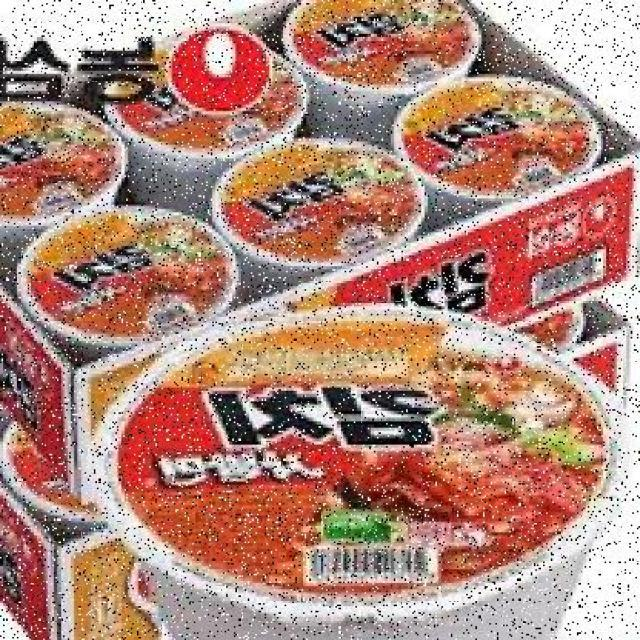Miscellaneous: (84, 317, 616, 640), (204, 127, 426, 296), (10, 198, 228, 366), (98, 31, 298, 207), (414, 66, 608, 226), (266, 0, 472, 142), (0, 90, 125, 226)
